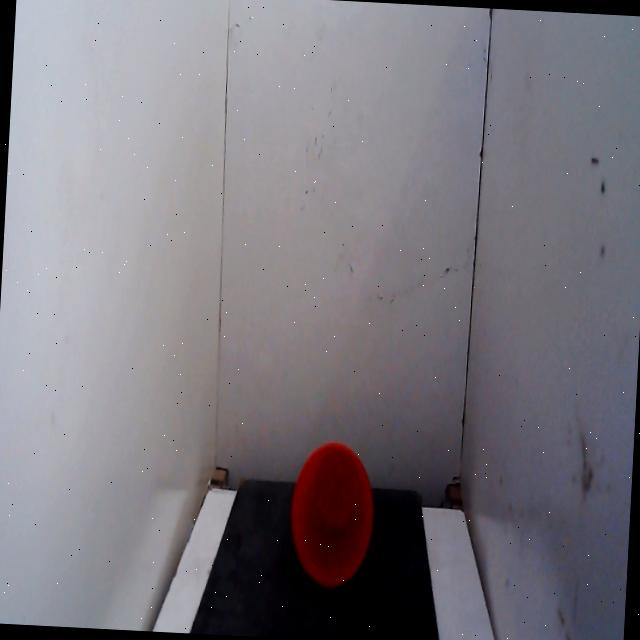plastico: (273, 428, 389, 602)
